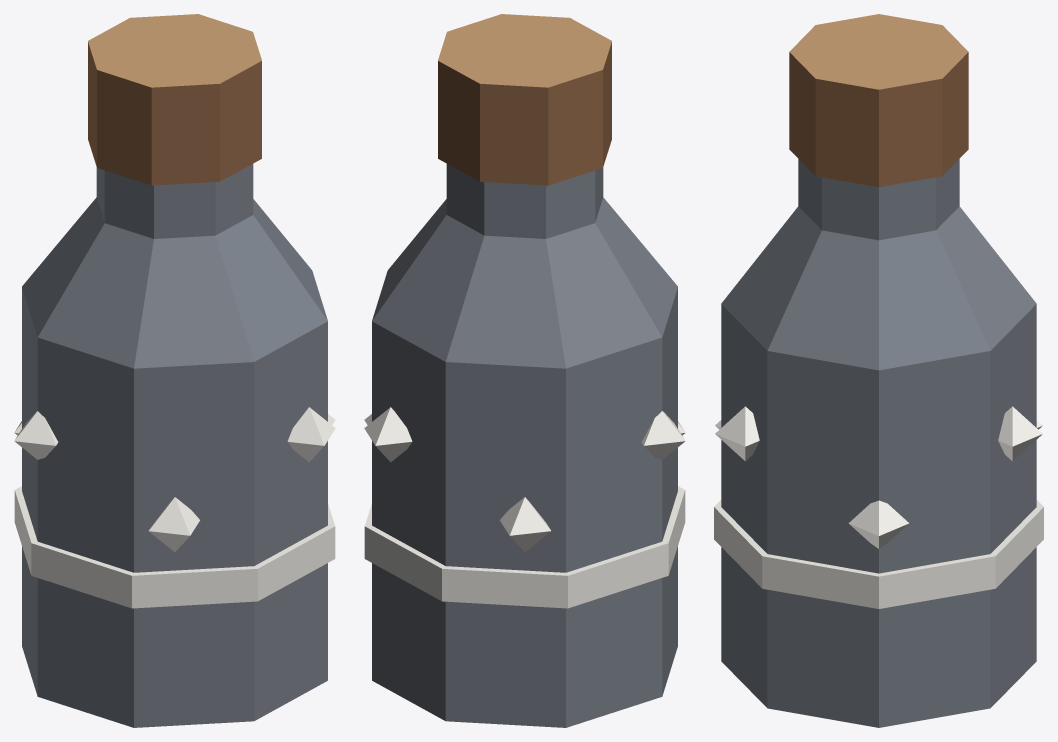
Rendered from deco_fx_snow.obj.
The picture shows the model from 3 angles, left to right: view 1: azimuth 30°, elevation 25°; view 2: azimuth 150°, elevation 25°; view 3: azimuth 270°, elevation 25°; orthographic projection.
Parts seen in each view (by area): view 1: deco_fx_snow; view 2: deco_fx_snow; view 3: deco_fx_snow.
Boxes of the visible parts, x1,y1,x2,y2 form: deco_fx_snow: (14, 14, 335, 727); deco_fx_snow: (364, 14, 685, 727); deco_fx_snow: (714, 14, 1043, 727).
Bounding box in the file's own units: 0.0206 × 0.0375 × 0.0184.
1 material, 1 textured.
